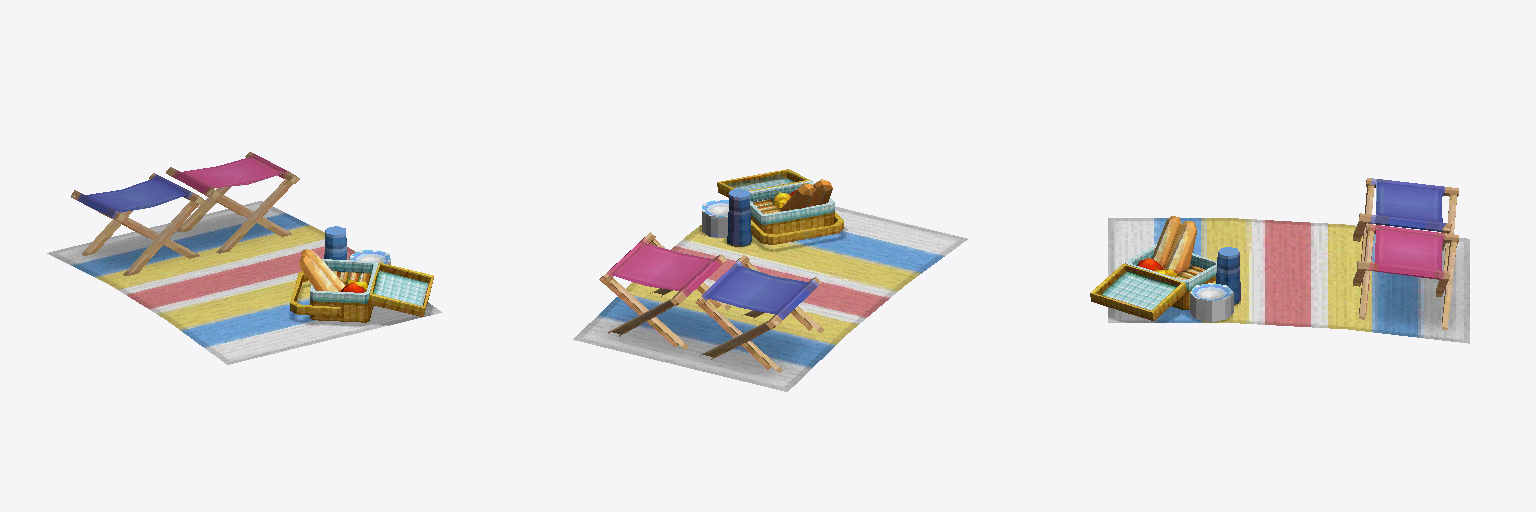
3 views of the same model, side by side, from view 1: azimuth 30°, elevation 25°; view 2: azimuth 150°, elevation 25°; view 3: azimuth 270°, elevation 25° (orthographic).
Visible parts, largest first — view 1: vsn_mesh_1__mesh_1_, vsn_mesh_0__mesh_0_.001; view 2: vsn_mesh_1__mesh_1_, vsn_mesh_0__mesh_0_.001; view 3: vsn_mesh_1__mesh_1_, vsn_mesh_0__mesh_0_.001.
Boxes of the visible parts, x1=… form: vsn_mesh_1__mesh_1_: x1=47, y1=201, x2=441, y2=364; vsn_mesh_0__mesh_0_.001: x1=71, y1=152, x2=433, y2=322; vsn_mesh_1__mesh_1_: x1=573, y1=206, x2=967, y2=391; vsn_mesh_0__mesh_0_.001: x1=599, y1=169, x2=843, y2=372; vsn_mesh_1__mesh_1_: x1=1108, y1=218, x2=1469, y2=343; vsn_mesh_0__mesh_0_.001: x1=1090, y1=178, x2=1458, y2=329.
Bounding box in the file's own units: 68.52 × 22.13 × 98.45.
2 materials, 1 textured.